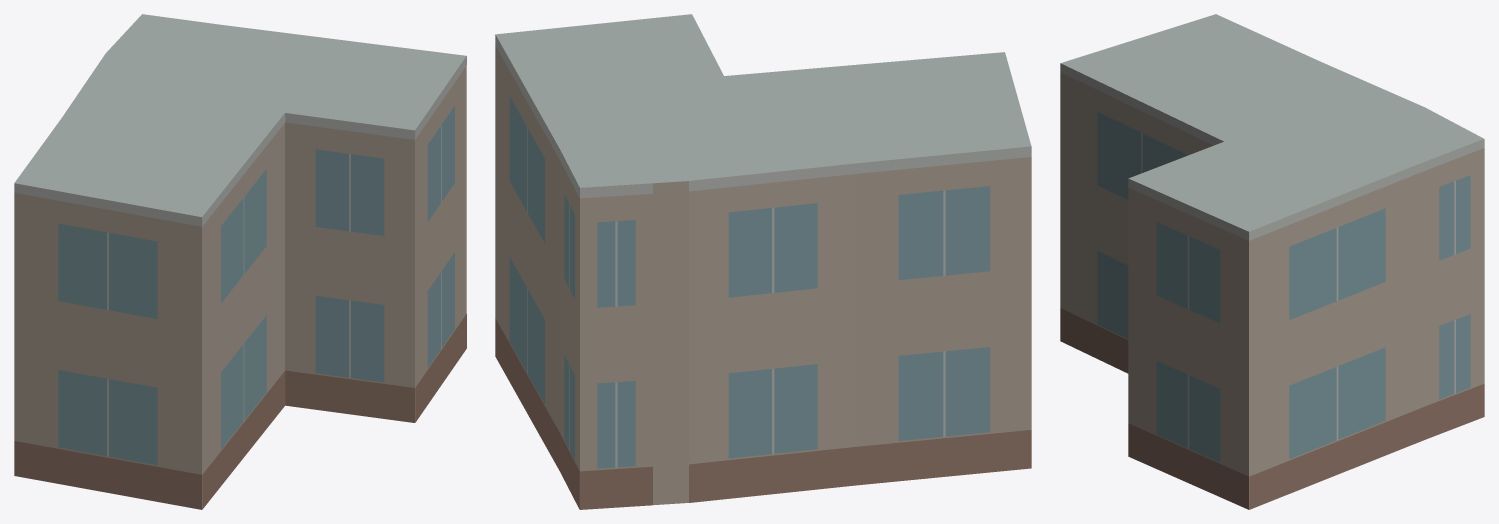
Rendered from survey-upis-32962273.glb.
The picture shows the model from 3 angles, left to right: view 1: azimuth 30°, elevation 25°; view 2: azimuth 150°, elevation 25°; view 3: azimuth 270°, elevation 25°; orthographic projection. The views are drawn at different scales.
Visible parts, largest first — view 1: survey-upis-32962273.tmp; view 2: survey-upis-32962273.tmp; view 3: survey-upis-32962273.tmp.
Boxes of the visible parts, box(x1,y1,x2,y2) form: survey-upis-32962273.tmp: box(14, 14, 466, 509); survey-upis-32962273.tmp: box(495, 14, 1031, 509); survey-upis-32962273.tmp: box(1060, 14, 1484, 509).
Bounding box in the file's own units: 12.61 × 7.5 × 10.38.
